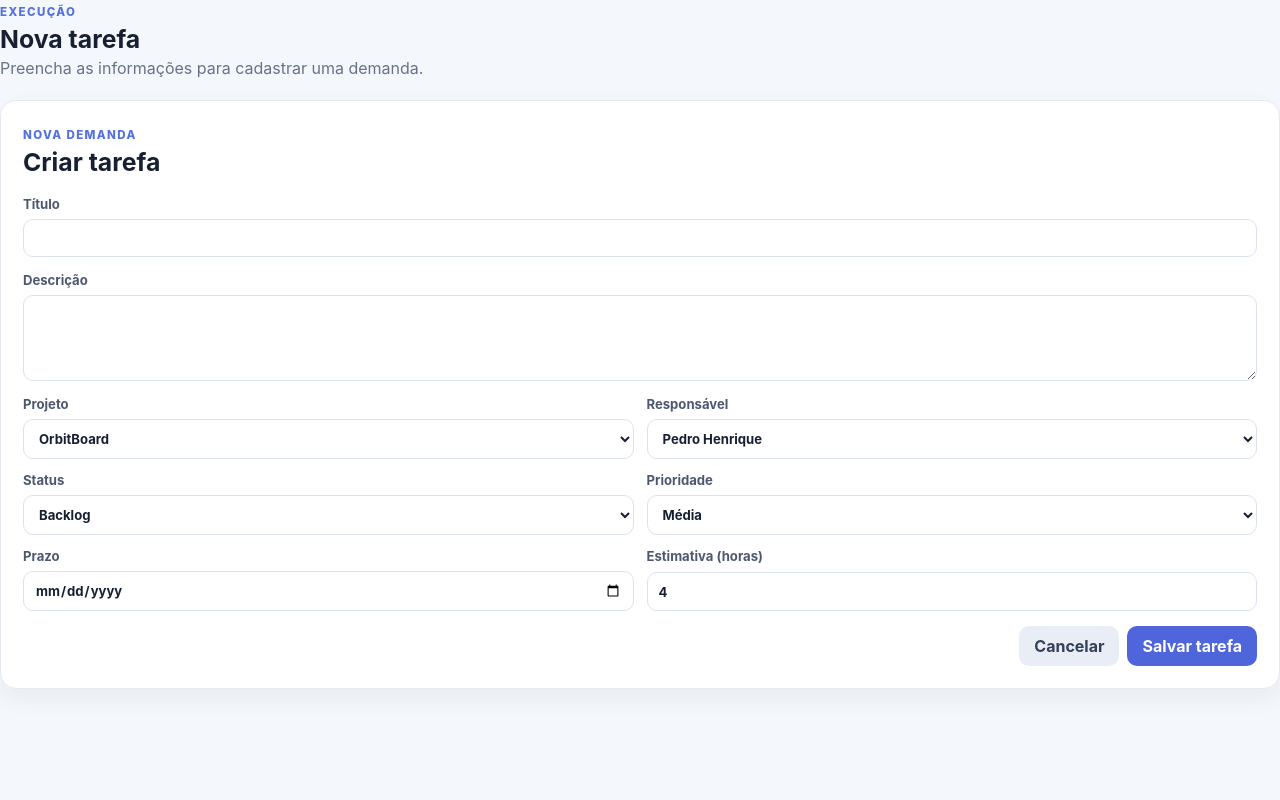
TaskFormPage › keeps the form visible when the API rejects the save
Type "Tarefa de teste" into the field labelled "Título".
click(640, 238); type("Tarefa de teste")  # box top-left (23, 219), bottom-right (1257, 257)
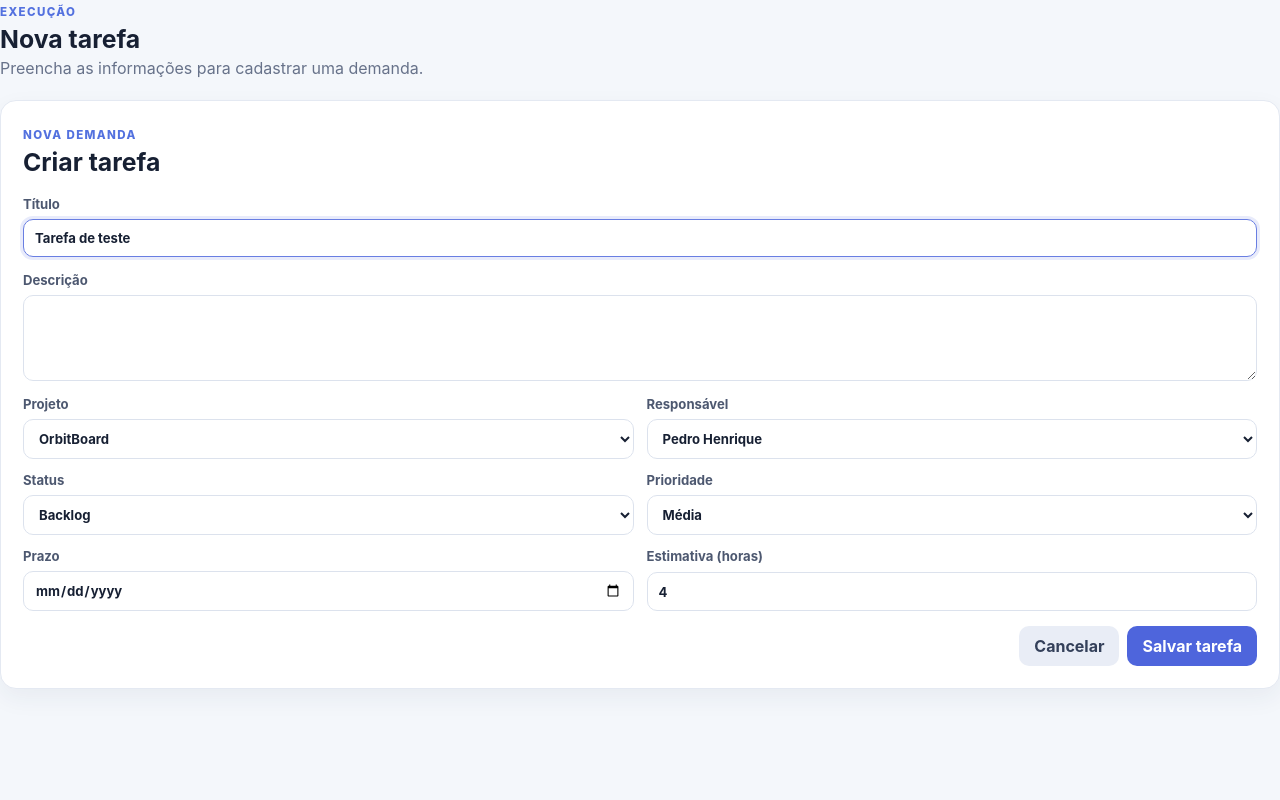
Type "Descrição válida enviada pelo formulário." into the text box labelled "Descrição".
click(640, 338); type("Descrição válida enviada pelo formulário.")  # box top-left (23, 295), bottom-right (1257, 381)
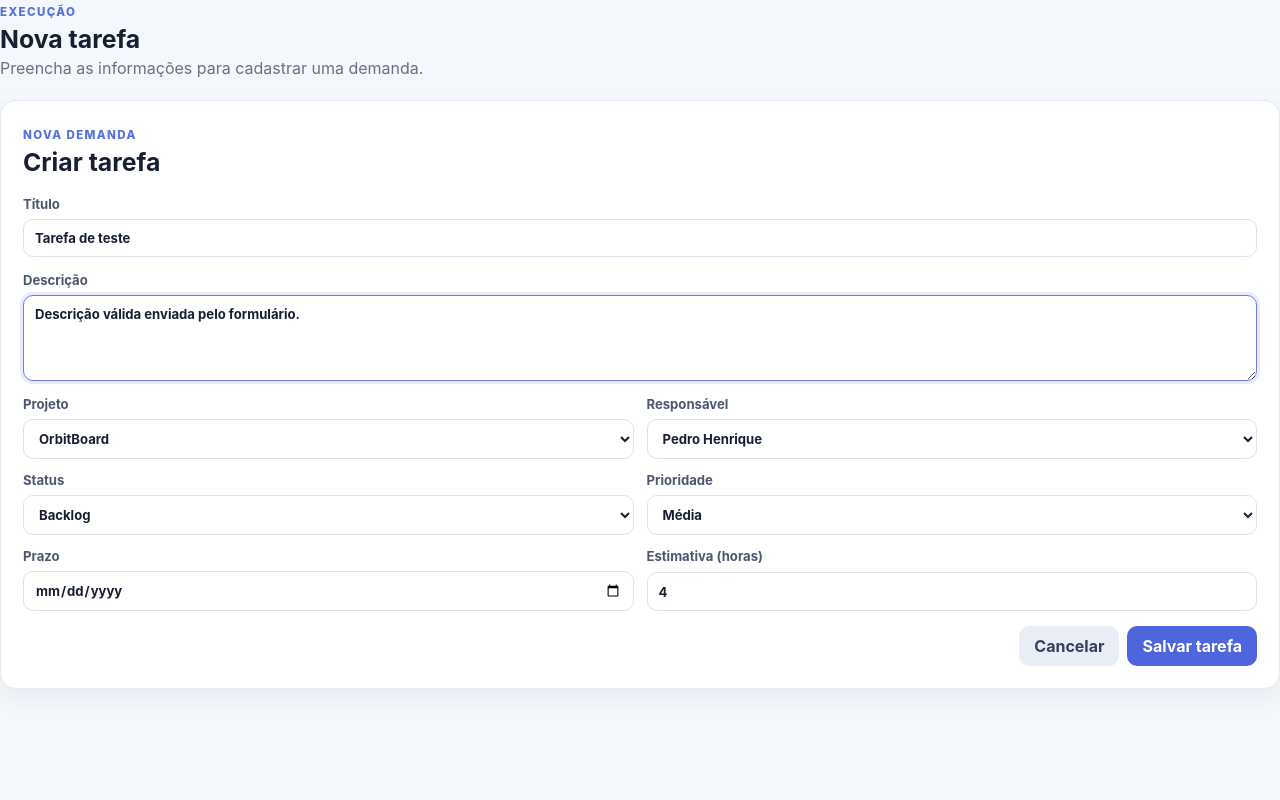
Click the button "Salvar tarefa".
click(1192, 646)  # box top-left (1128, 626), bottom-right (1257, 666)
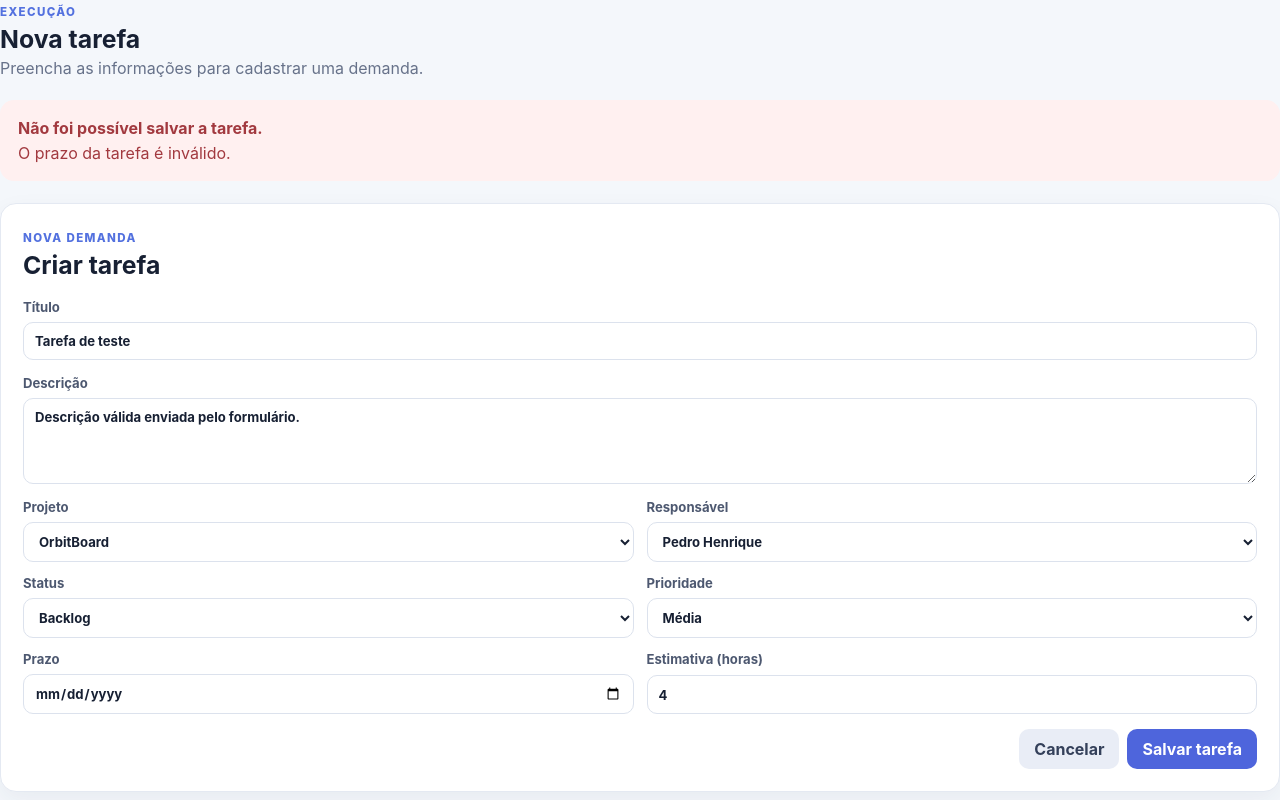
Now the text "O prazo da tarefa é inválido." is shown, box top-left (18, 143), bottom-right (263, 163)
